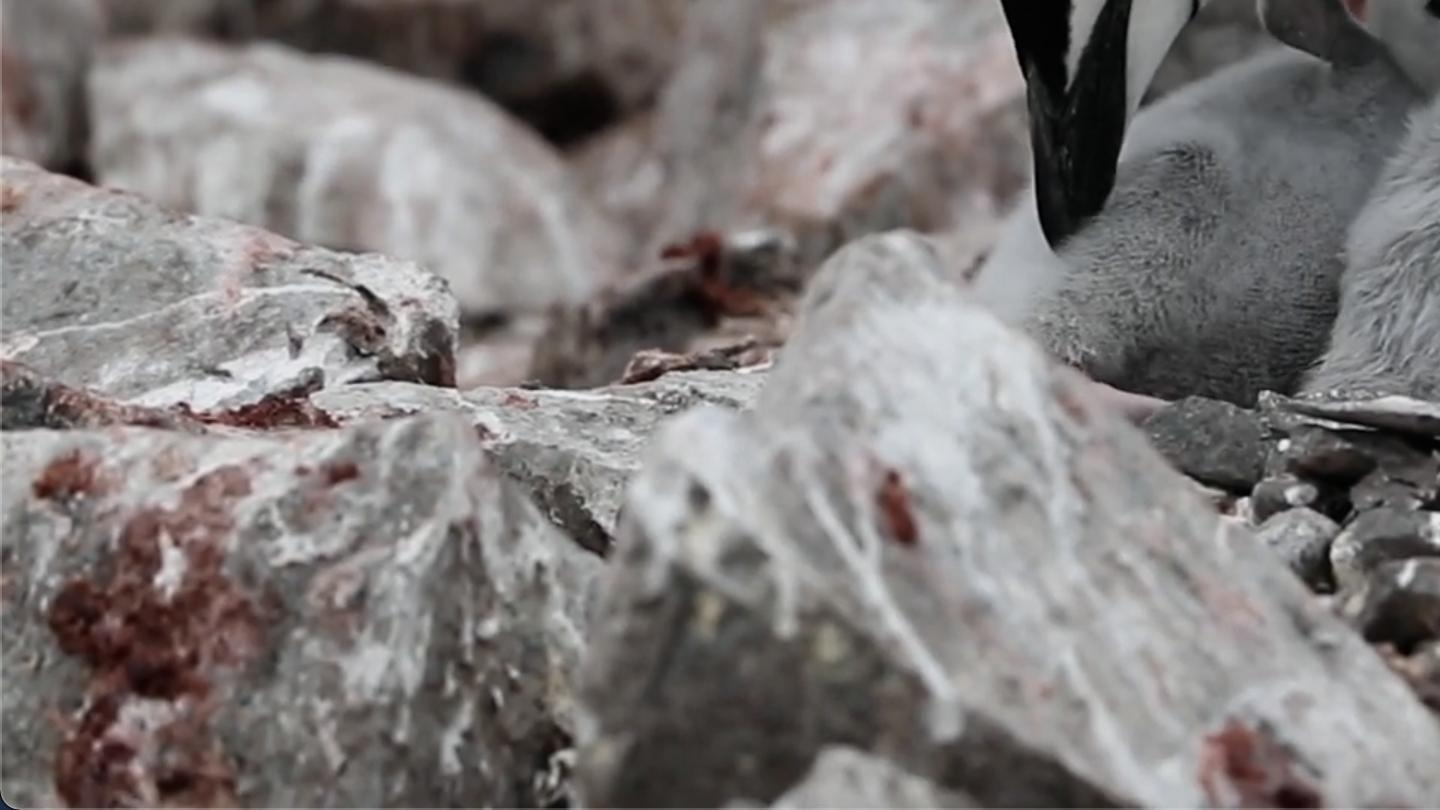Chinstrap Penguin: (911, 0, 1373, 276)
